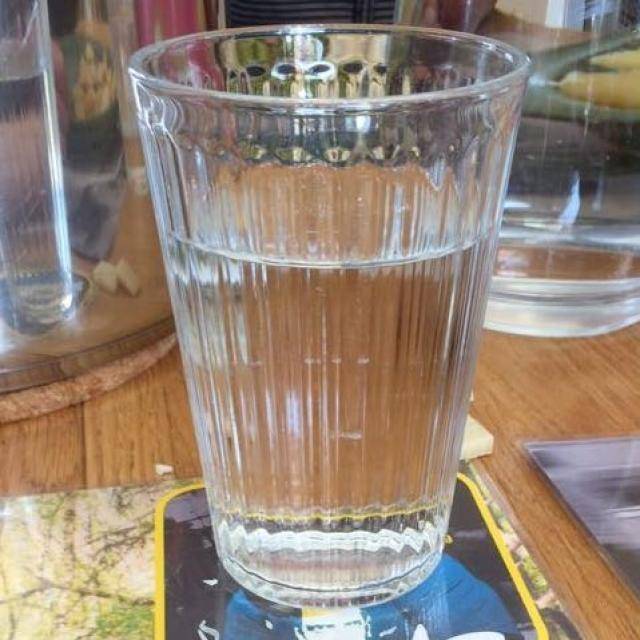water: (165, 79, 508, 540)
